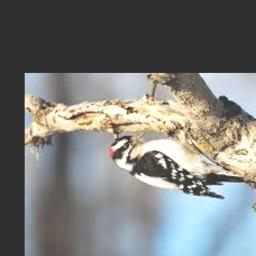Woodpecker: (110, 130, 254, 199)
